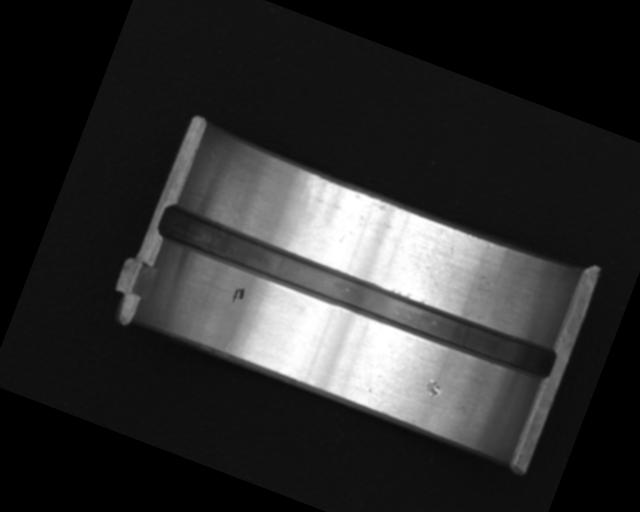blot: (229, 284, 247, 306)
bruise: (421, 377, 444, 400)
gap: (154, 201, 560, 388)
